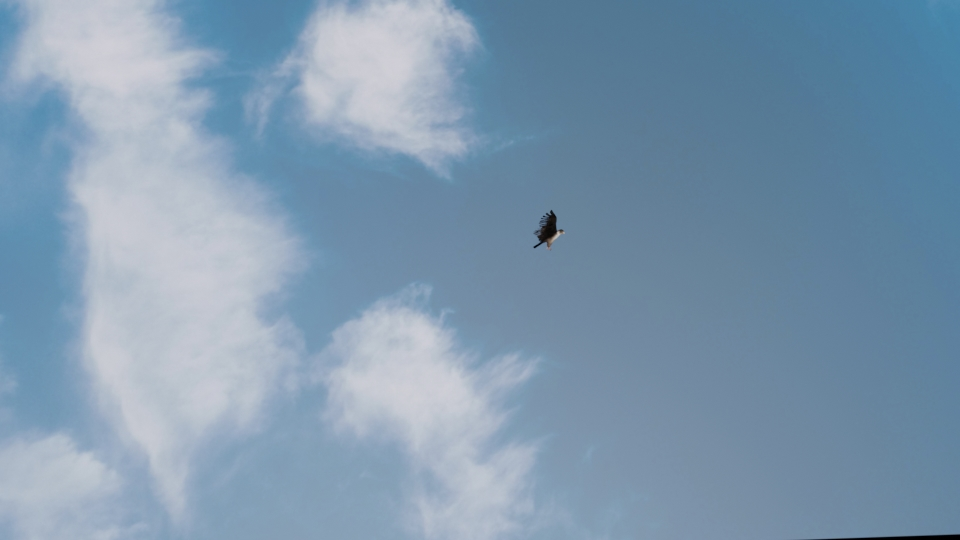bird: (531, 208, 564, 246)
